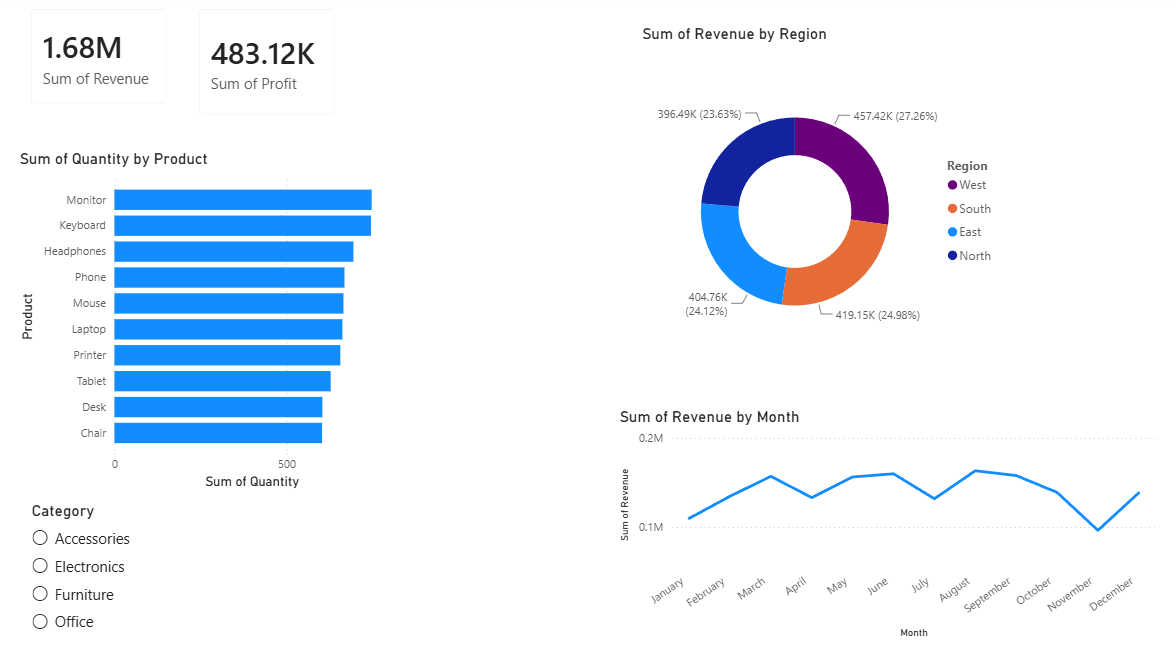

Layout of this report page (visuals, bound fields, positions):
{"tool":"powerbi","page":{"name":"Page 1","canvas":[1280,720],"ordinal":0},"visuals":[{"type":"cardVisual","fields":{"Data":["Sum(cleaned_sales_data.Revenue)"]},"box":[22.7,0,181.4,136],"z":0},{"type":"cardVisual","fields":{"Data":["Sum(cleaned_sales_data.Profit)"]},"box":[204,0,181.4,149],"z":1},{"type":"barChart","fields":{"Category":["cleaned_sales_data.Product"],"Y":["Sum(cleaned_sales_data.Quantity)"]},"box":[22.7,168.4,419.4,370.8],"z":2},{"type":"donutChart","fields":{"Category":["cleaned_sales_data.Region"],"Y":["Sum(cleaned_sales_data.Revenue)"]},"box":[694.6,34,403.2,383.8],"z":3},{"type":"lineChart","fields":{"Category":["cleaned_sales_data.Date.Variation.Date Hierarchy.Month"],"Y":["Sum(cleaned_sales_data.Revenue)"]},"box":[670.4,446.9,587.8,254.2],"z":4},{"type":"listSlicer","fields":{"Values":["cleaned_sales_data.Category"]},"box":[35.6,548.9,419.4,171.6],"z":5}]}

Visuals, with their boxes in screenshot pixels (x1, y1, x2, y2), scaled from the page's 1280x720 canvas onto the 1176x646 screenshot:
cardVisual - Sum(cleaned_sales_data.Revenue): (21, 0, 188, 122)
cardVisual - Sum(cleaned_sales_data.Profit): (187, 0, 354, 134)
barChart - cleaned_sales_data.Product x Sum(cleaned_sales_data.Quantity): (21, 151, 406, 484)
donutChart - cleaned_sales_data.Region x Sum(cleaned_sales_data.Revenue): (638, 31, 1009, 375)
lineChart - cleaned_sales_data.Date.Variation.Date Hierarchy.Month x Sum(cleaned_sales_data.Revenue): (616, 401, 1156, 629)
listSlicer - cleaned_sales_data.Category: (33, 492, 418, 645)
